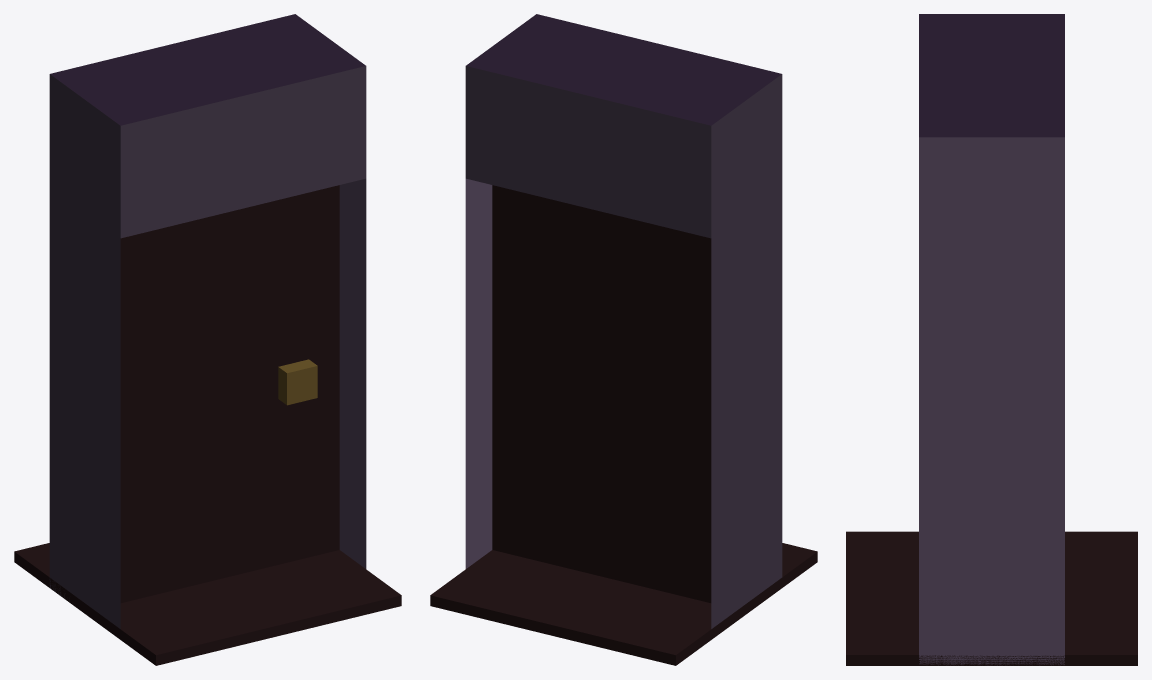
File: door_purple_open.dae
3 views of the same model, side by side, from view 1: azimuth 30°, elevation 25°; view 2: azimuth 150°, elevation 25°; view 3: azimuth 270°, elevation 25° (orthographic). The views are drawn at different scales.
Parts seen in each view (by area): view 1: frame_MSH, door_MSH; view 2: frame_MSH, door_MSH; view 3: frame_MSH.
Boxes of the visible parts, box(x1,y1,x2,y2) form: frame_MSH: box(14, 14, 401, 665); door_MSH: box(120, 185, 339, 602); frame_MSH: box(430, 14, 817, 665); door_MSH: box(492, 185, 711, 602); frame_MSH: box(846, 14, 1137, 665).
Bounding box in the file's own units: 1 × 2 × 1.
